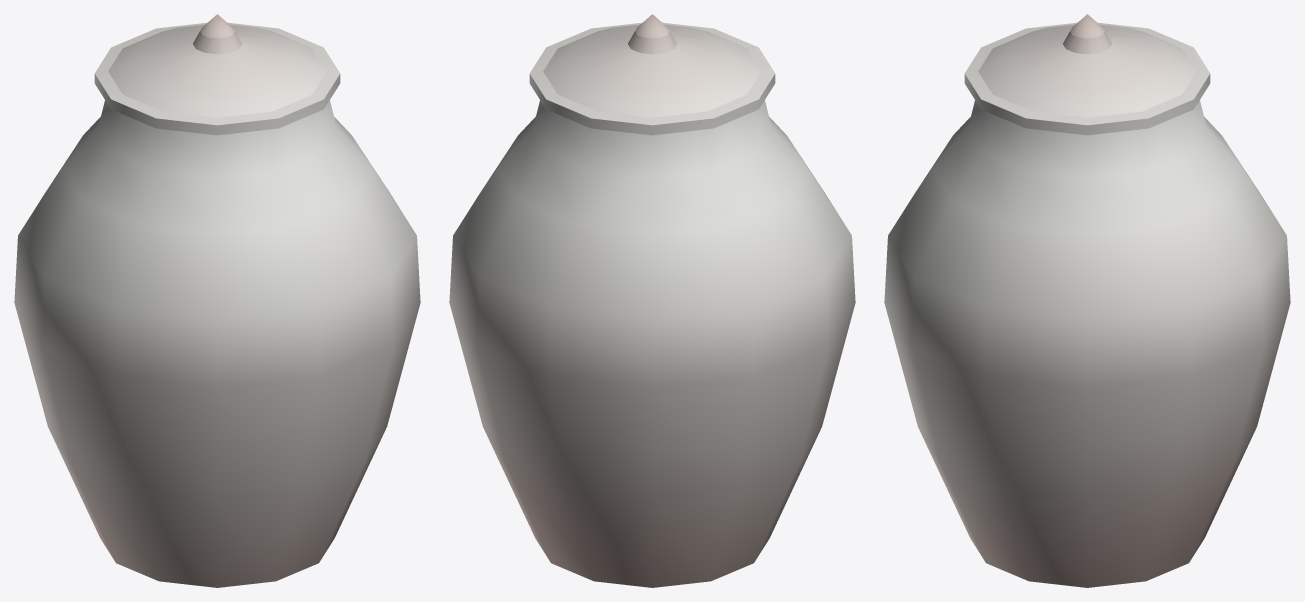
The model's file is alchemic_urn.fbx.
3 renders of one model, left to right at view 1: azimuth 30°, elevation 25°; view 2: azimuth 150°, elevation 25°; view 3: azimuth 270°, elevation 25°, orthographic.
Parts seen in each view (by area): view 1: Alchemic_urn; view 2: Alchemic_urn; view 3: Alchemic_urn.
Boxes of the visible parts, bbox=[...] form: Alchemic_urn: bbox=[14, 14, 420, 587]; Alchemic_urn: bbox=[449, 14, 855, 587]; Alchemic_urn: bbox=[884, 14, 1290, 587].
Size of the model in its own units: 1.29 by 1.83 by 1.29.
Materials: 1 (1 with a texture image).
